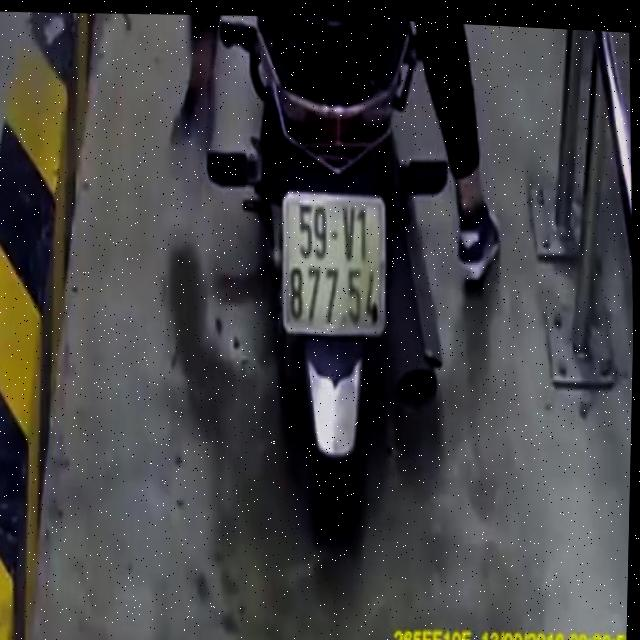motorcycle: (199, 11, 473, 542)
plate: (272, 181, 397, 347)
